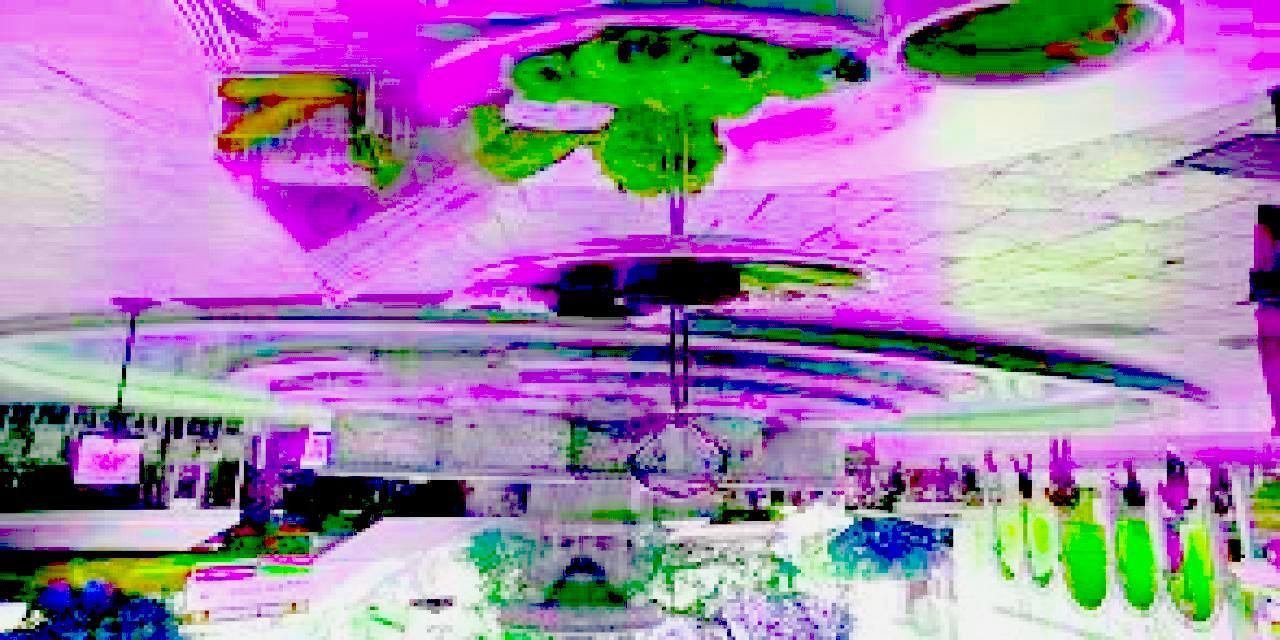Liontaria: (302, 414, 855, 639)
